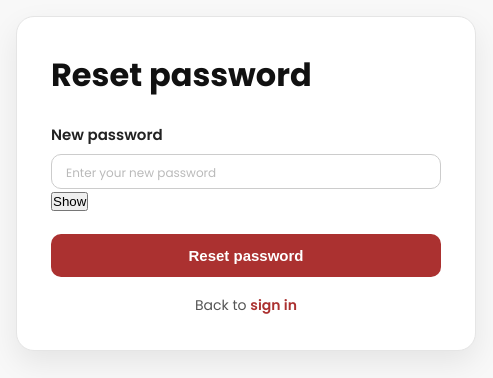
Test: ResetPasswordPage › toggles password input visibility when clicking Show/Hide button
Click the button "Show": (70, 202) [51,192,88,211]
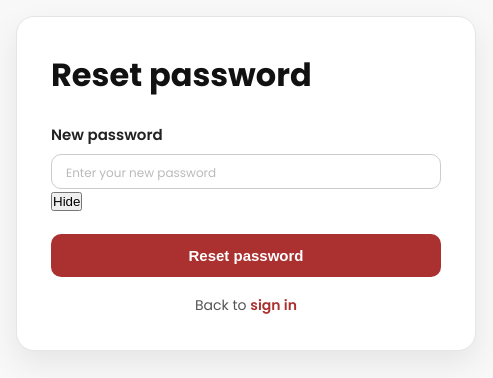
Check: the button "Hide" is shown, box [51,192,82,211]
